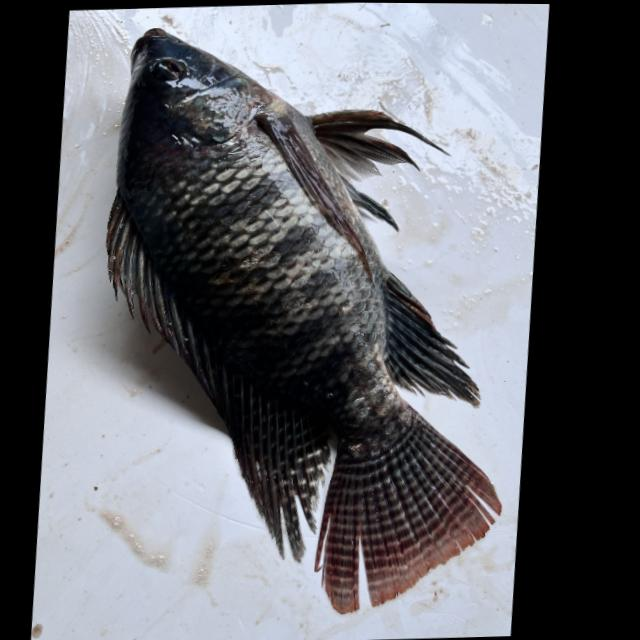Tilapia: (58, 13, 557, 623)
